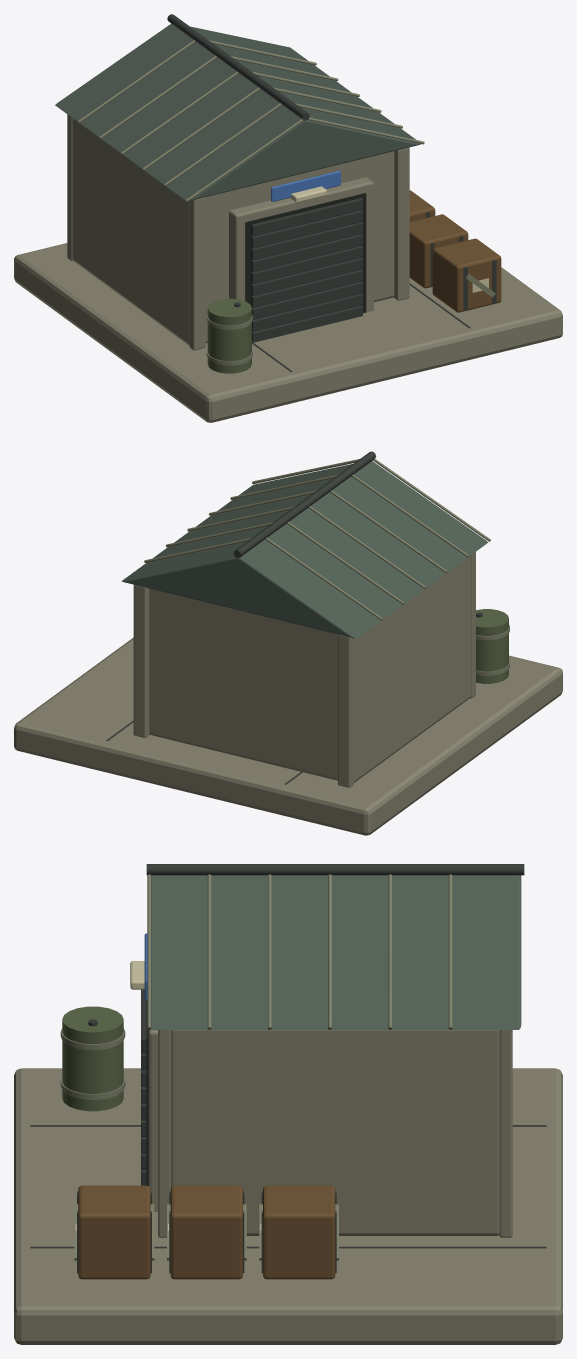
Rendered from resourcedepot.glb.
3 views of the same model, one above another, from view 1: azimuth 30°, elevation 25°; view 2: azimuth 150°, elevation 25°; view 3: azimuth 270°, elevation 25° (orthographic). The views are drawn at different scales.
Visible parts, largest first — view 1: Concrete, RoofMetal, Steel, Timber, EdgeSteel, Armor, Tracks, TeamColor; view 2: Concrete, RoofMetal, EdgeSteel, Armor, Steel; view 3: Concrete, RoofMetal, Timber, Steel, EdgeSteel, Armor.
Part boxes in pixels (box(x1,y1,x2,y2)): Concrete: box(14, 114, 562, 422); RoofMetal: box(55, 23, 421, 200); Steel: box(167, 14, 496, 371); Timber: box(409, 190, 501, 312); EdgeSteel: box(78, 40, 495, 365); Armor: box(207, 298, 251, 373); Tracks: box(245, 193, 366, 331); TeamColor: box(271, 170, 340, 201); Concrete: box(14, 552, 562, 835); RoofMetal: box(121, 461, 487, 638); EdgeSteel: box(144, 458, 509, 675); Armor: box(476, 609, 508, 683); Steel: box(106, 451, 482, 784); Concrete: box(14, 1029, 562, 1344); RoofMetal: box(151, 875, 521, 1029); Timber: box(78, 1185, 335, 1279); Steel: box(30, 864, 546, 1273); EdgeSteel: box(60, 874, 452, 1260); Armor: box(62, 1006, 123, 1111).
Size of the model in its own units: 4.3 by 2.8 by 4.1.
